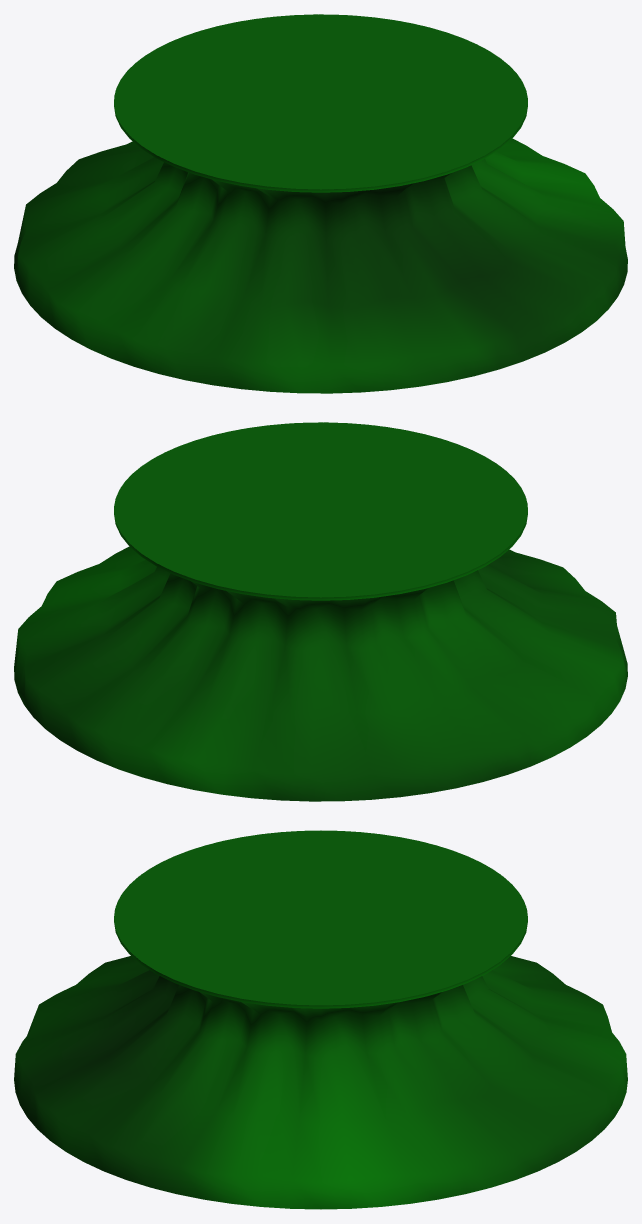
File: shrine_basin_pedestal.glb
3 renders of one model, top to bottom at view 1: azimuth 30°, elevation 25°; view 2: azimuth 150°, elevation 25°; view 3: azimuth 270°, elevation 25°, orthographic.
Parts seen in each view (by area): view 1: shrine_basin_pedestal; view 2: shrine_basin_pedestal; view 3: shrine_basin_pedestal.
Boxes of the visible parts, x1,y1,x2,y2 form: shrine_basin_pedestal: [14, 14, 627, 393]; shrine_basin_pedestal: [14, 422, 627, 801]; shrine_basin_pedestal: [14, 830, 627, 1209].
Size of what is drawn, in the model's own units: 1.72 by 0.5 by 1.72.
